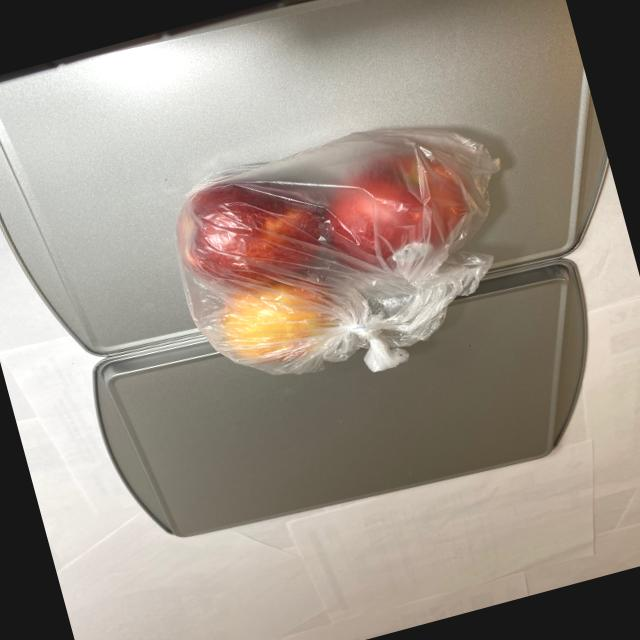apple: (163, 110, 518, 388)
